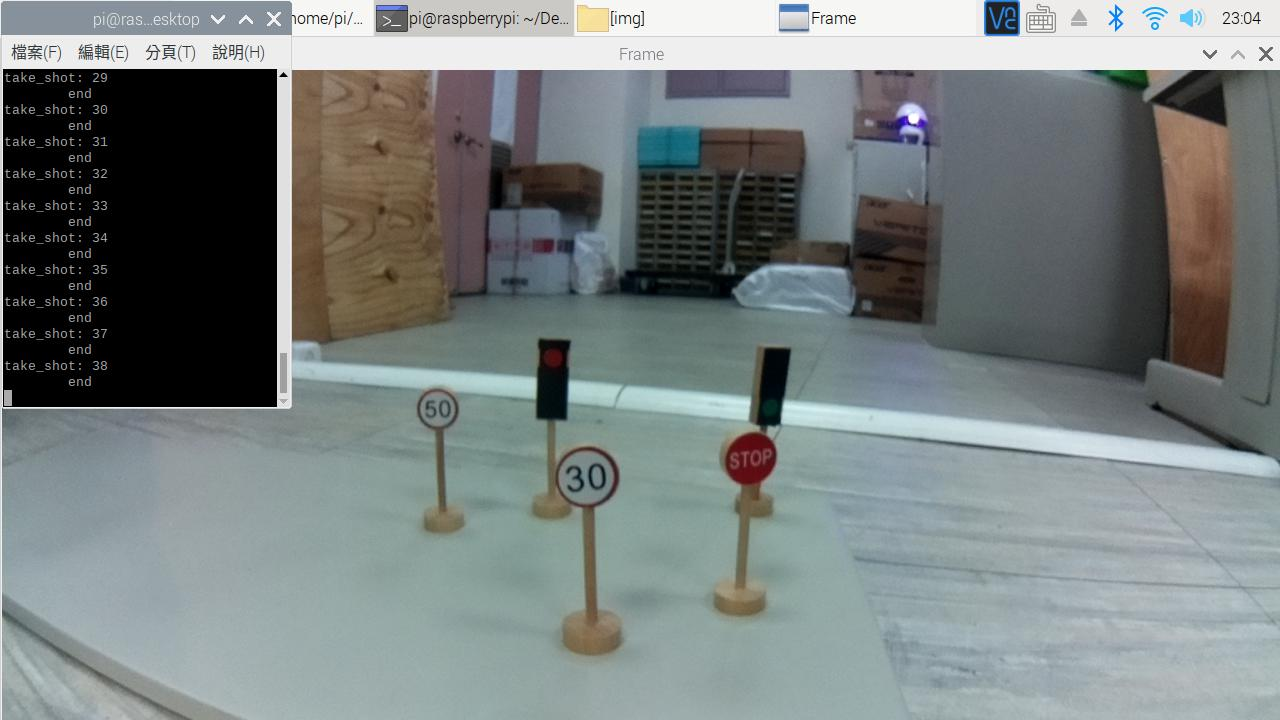Green: (761, 346, 784, 426)
Red: (537, 338, 570, 426)
Speed30: (559, 444, 622, 509)
Speed50: (418, 392, 459, 430)
Stop: (720, 433, 779, 491)
